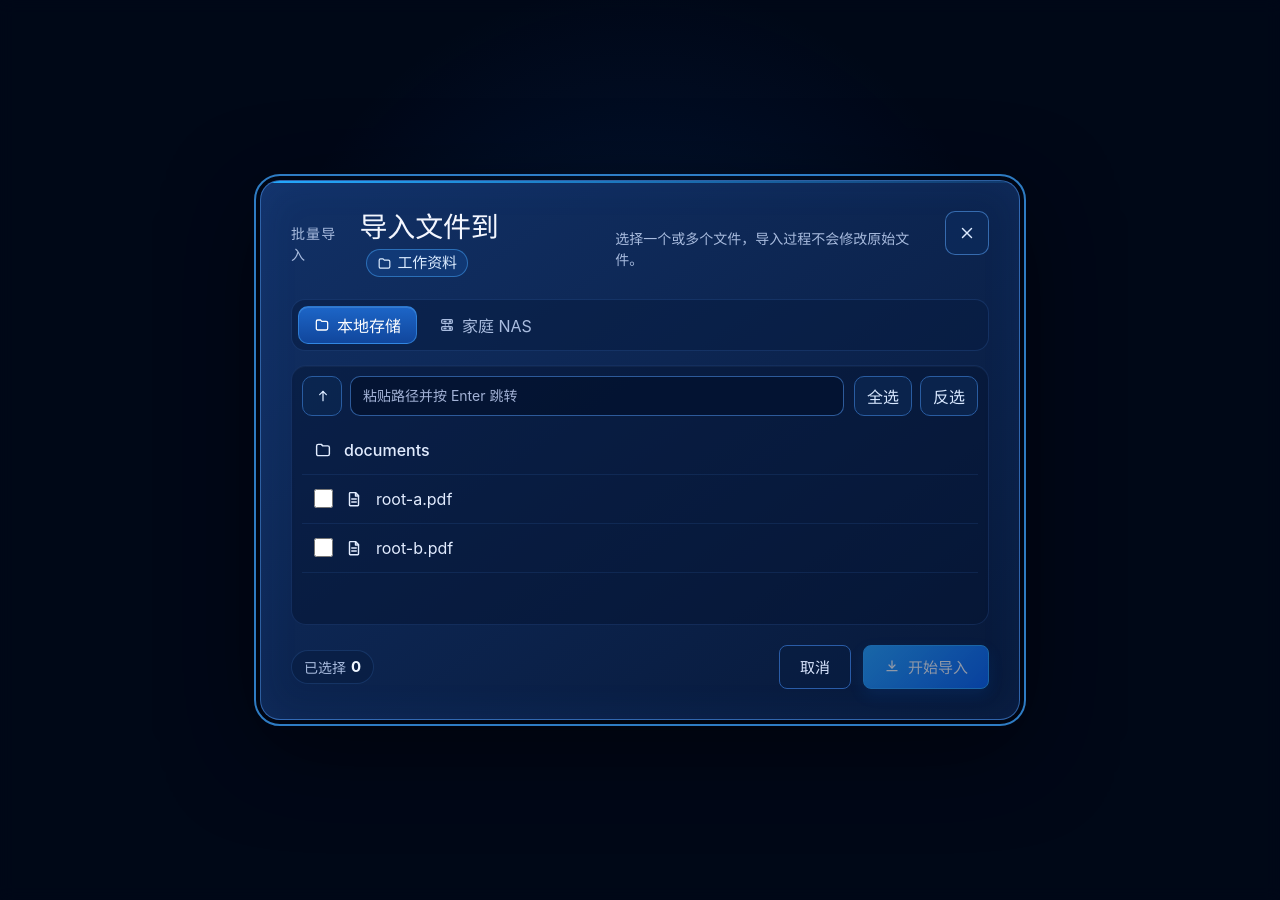
Test: ImportFileDialog › switches storage tabs and navigates directories
Expected: the text "root-a.pdf" is shown, x1=376 y1=489 x2=452 y2=509
Click the tab "家庭 NAS": (485, 325) x1=423 y1=306 x2=548 y2=344
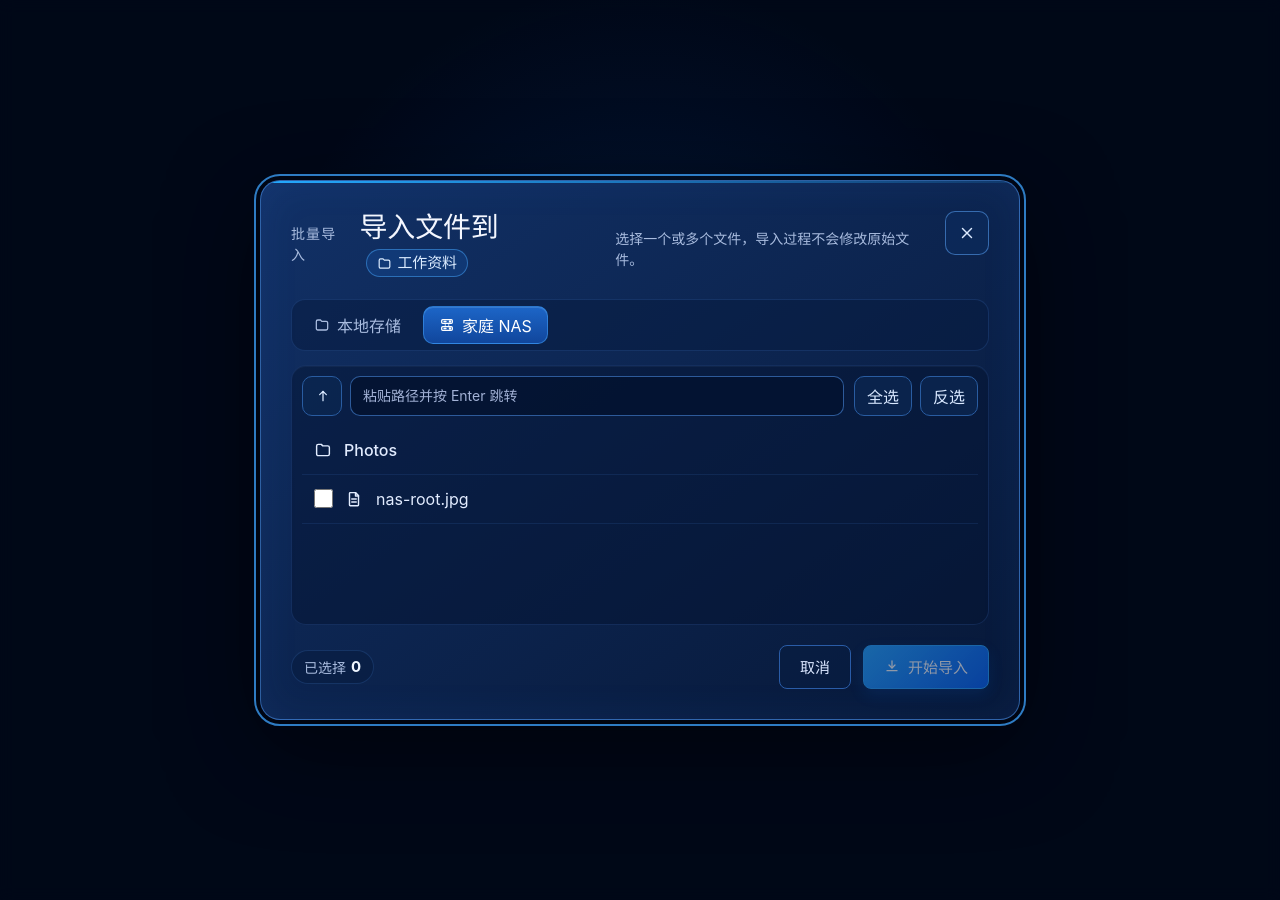
Expected: the text "nas-root.jpg" is shown, x1=376 y1=489 x2=468 y2=509
Click the tab "本地存储": (358, 325) x1=298 y1=306 x2=417 y2=344
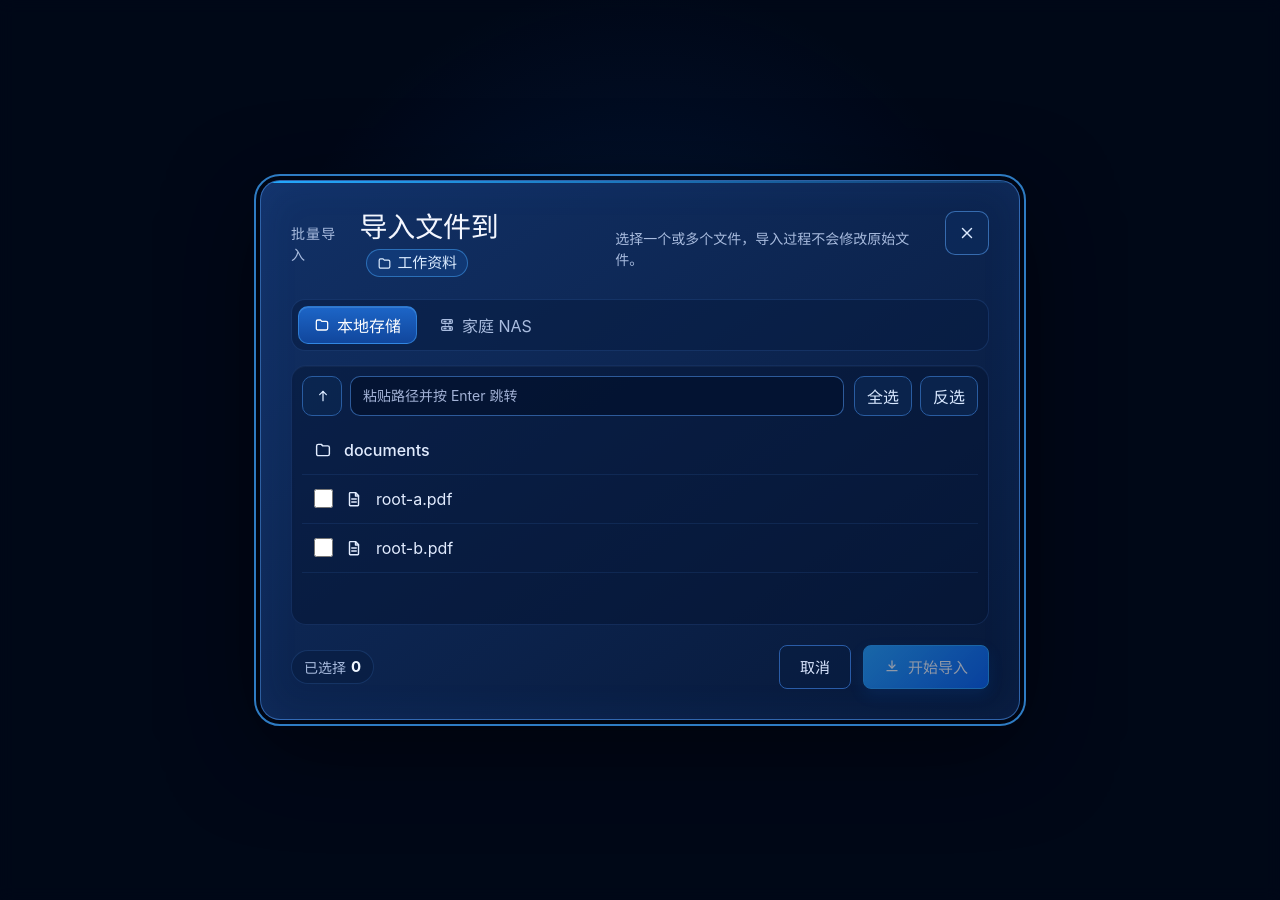
Click the button "documents": (387, 450) x1=302 y1=426 x2=978 y2=474
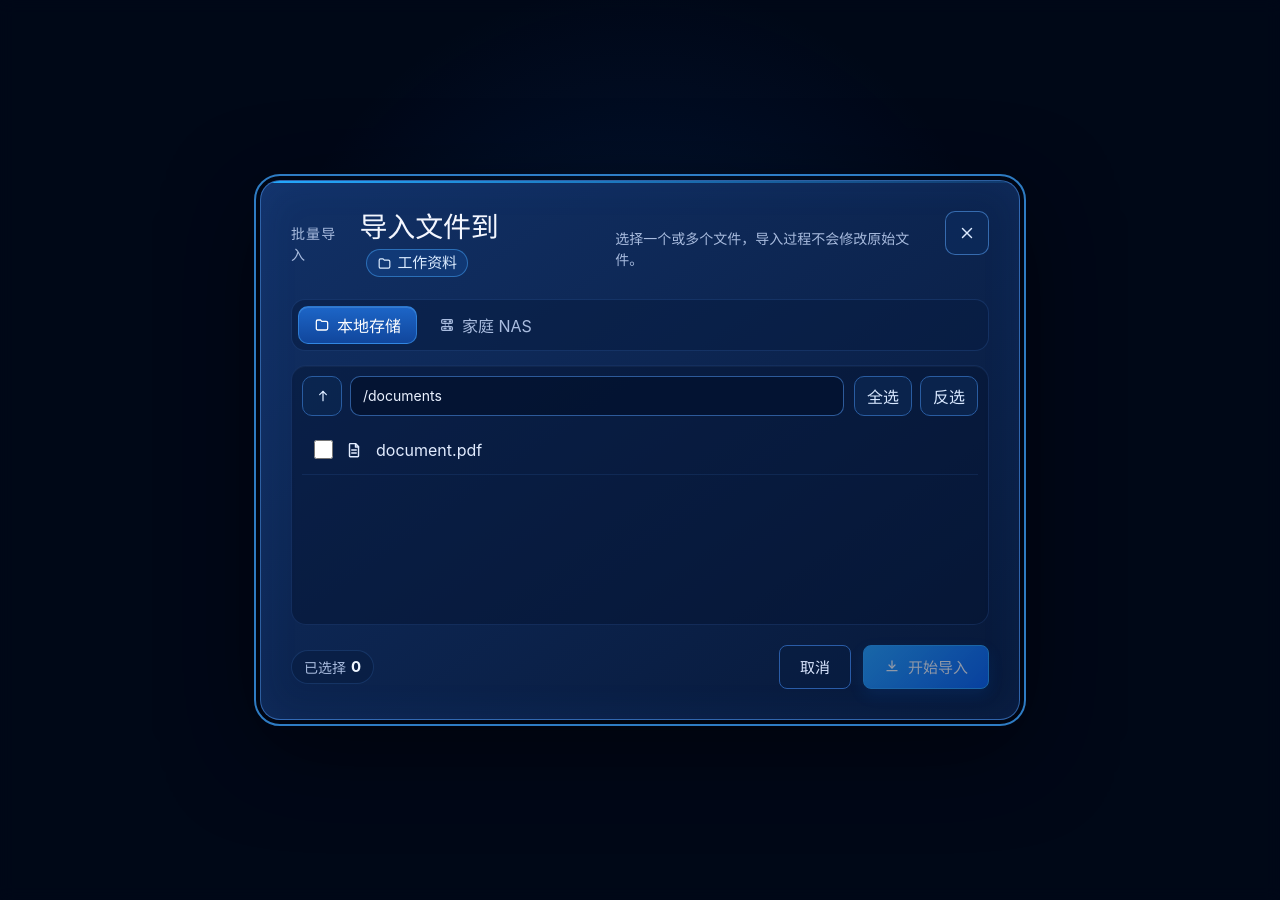
Expected: the text "document.pdf" is shown, x1=376 y1=440 x2=482 y2=460
Expected: the field named "路径" holds "/documents", x1=350 y1=376 x2=844 y2=416
